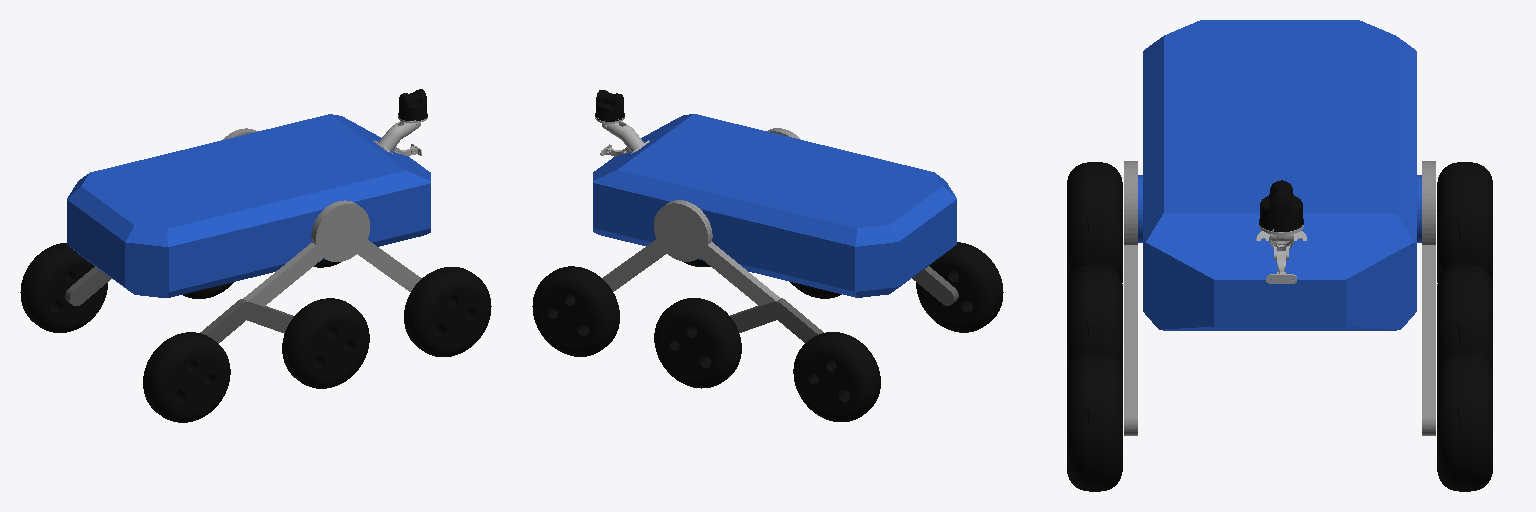
URDF robot description (jaska_robot):
<?xml version="1.0" ?>
<!-- =================================================================================== -->
<!-- |    This document was autogenerated by xacro from urdf/jaska_robot.xacro         | -->
<!-- |    EDITING THIS FILE BY HAND IS NOT RECOMMENDED                                 | -->
<!-- =================================================================================== -->
<robot name="jaska_robot">
  <!-- Base link (main body) -->
  <link name="base_link">
    <visual>
      <origin rpy="1.570795 0 0" xyz="0 0 0"/>
      <geometry>
        <mesh filename="package://jaska_description/meshes/jaska_v1/trunk.stl" scale="0.09 0.09 0.09"/>
      </geometry>
      <material name="jaska_blue">
        <color rgba="0.2 0.4 0.8 1.0"/>
      </material>
    </visual>
    <collision>
      <origin rpy="0 0 0" xyz="0 0 0"/>
      <geometry>
        <!-- Simplified collision geometry for better physics performance -->
        <box size="0.8 0.4 0.17"/>
      </geometry>
    </collision>
    <inertial>
      <mass value="20.0"/>
      <origin rpy="0 0 0" xyz="0 0 0"/>
      <inertia ixx="4.17" ixy="0" ixz="0" iyy="8.33" iyz="0" izz="4.17"/>
    </inertial>
  </link>
  <!-- Left Rocker Link -->
  <link name="left_rocker">
    <visual>
      <origin rpy="1.570795 0 3.14159" xyz="0 0 -0.100"/>
      <geometry>
        <mesh filename="package://jaska_description/meshes/jaska_v1/rocker.stl" scale="0.06 0.06 0.06"/>
      </geometry>
      <material name="jaska_gray">
        <color rgba="0.6 0.6 0.6 1.0"/>
      </material>
    </visual>
    <collision>
      <origin rpy="0 0 0" xyz="0 0 0"/>
      <geometry>
        <!-- Simplified collision geometry for better physics performance -->
        <box size="0.3 0.080 0.060"/>
      </geometry>
    </collision>
    <inertial>
      <mass value="5.0"/>
      <origin rpy="0 0 0" xyz="0 0 0"/>
      <inertia ixx="0.083" ixy="0" ixz="0" iyy="0.267" iyz="0" izz="0.267"/>
    </inertial>
  </link>
  <!-- Right Rocker Link -->
  <link name="right_rocker">
    <visual>
      <origin rpy="1.570795 0 3.14159" xyz="0 0 -0.100"/>
      <geometry>
        <mesh filename="package://jaska_description/meshes/jaska_v1/rocker.stl" scale="0.06 0.06 0.06"/>
      </geometry>
      <material name="jaska_gray">
        <color rgba="0.6 0.6 0.6 1.0"/>
      </material>
    </visual>
    <collision>
      <origin rpy="0 0 0" xyz="0 0 0"/>
      <geometry>
        <!-- Simplified collision geometry for better physics performance -->
        <box size="0.3 0.080 0.060"/>
      </geometry>
    </collision>
    <inertial>
      <mass value="5.0"/>
      <origin rpy="0 0 0" xyz="0 0 0"/>
      <inertia ixx="0.083" ixy="0" ixz="0" iyy="0.267" iyz="0" izz="0.267"/>
    </inertial>
  </link>
  <!-- Left Bogie Link -->
  <link name="left_bogie">
    <visual>
      <origin rpy="1.570795 0 0" xyz="0 0 -0.050"/>
      <geometry>
        <mesh filename="package://jaska_description/meshes/jaska_v1/bogie.stl" scale="0.045 0.045 0.045"/>
      </geometry>
      <material name="jaska_dark_gray">
        <color rgba="0.4 0.4 0.4 1.0"/>
      </material>
    </visual>
    <collision>
      <origin rpy="0 0 0" xyz="0 0 0"/>
      <geometry>
        <!-- Simplified collision geometry for better physics performance -->
        <box size="0.3 0.060 0.040"/>
      </geometry>
    </collision>
    <inertial>
      <mass value="3.0"/>
      <origin rpy="0 0 0" xyz="0 0 0"/>
      <inertia ixx="0.050" ixy="0" ixz="0" iyy="0.063" iyz="0" izz="0.063"/>
    </inertial>
  </link>
  <!-- Right Bogie Link -->
  <link name="right_bogie">
    <visual>
      <origin rpy="1.570795 0 0" xyz="0 0 -0.050"/>
      <geometry>
        <mesh filename="package://jaska_description/meshes/jaska_v1/bogie.stl" scale="0.045 0.045 0.045"/>
      </geometry>
      <material name="jaska_dark_gray">
        <color rgba="0.4 0.4 0.4 1.0"/>
      </material>
    </visual>
    <collision>
      <origin rpy="0 0 0" xyz="0 0 0"/>
      <geometry>
        <!-- Simplified collision geometry for better physics performance -->
        <box size="0.3 0.060 0.040"/>
      </geometry>
    </collision>
    <inertial>
      <mass value="3.0"/>
      <origin rpy="0 0 0" xyz="0 0 0"/>
      <inertia ixx="0.050" ixy="0" ixz="0" iyy="0.063" iyz="0" izz="0.063"/>
    </inertial>
  </link>
  <!-- Rocker Joints (revolute - allows rocker-bogie motion) -->
  <joint name="left_rocker_joint" type="revolute">
    <parent link="base_link"/>
    <child link="left_rocker"/>
    <origin rpy="0 0 0" xyz="0.115 0.245 0.0"/>
    <axis xyz="0 1 0"/>
    <limit effort="100" lower="-0.5" upper="0.5" velocity="1.0"/>
    <dynamics damping="10.0" friction="1.0"/>
  </joint>
  <joint name="right_rocker_joint" type="revolute">
    <parent link="base_link"/>
    <child link="right_rocker"/>
    <origin rpy="0 0 0" xyz="0.115 -0.245 0.0"/>
    <axis xyz="0 1 0"/>
    <limit effort="100" lower="-0.5" upper="0.5" velocity="1.0"/>
    <dynamics damping="10.0" friction="1.0"/>
  </joint>
  <!-- Bogie Joints (revolute - connects to rear of rocker) -->
  <joint name="left_bogie_joint" type="revolute">
    <parent link="left_rocker"/>
    <child link="left_bogie"/>
    <origin rpy="0 0 0" xyz="-0.28 0 -0.155"/>
    <axis xyz="0 1 0"/>
    <limit effort="50" lower="-0.3" upper="0.3" velocity="1.0"/>
    <dynamics damping="5.0" friction="0.5"/>
  </joint>
  <joint name="right_bogie_joint" type="revolute">
    <parent link="right_rocker"/>
    <child link="right_bogie"/>
    <origin rpy="0 0 0" xyz="-0.28 0 -0.155"/>
    <axis xyz="0 1 0"/>
    <limit effort="50" lower="-0.3" upper="0.3" velocity="1.0"/>
    <dynamics damping="5.0" friction="0.5"/>
  </joint>
  <!-- ============================================== -->
  <!-- WHEELS - Rocker-Bogie Configuration          -->
  <!-- ============================================== -->
  <!-- Wheel Link -->
  <link name="front_left_wheel">
    <visual>
      <origin rpy="1.570795 0 0" xyz="0 0 0"/>
      <geometry>
        <mesh filename="package://jaska_description/meshes/jaska_v1/wheel.stl" scale="0.023 0.023 0.023"/>
      </geometry>
      <material name="wheel_black">
        <color rgba="0.1 0.1 0.1 1.0"/>
      </material>
    </visual>
    <collision>
      <origin rpy="1.570795 0 0" xyz="0 0 0"/>
      <geometry>
        <!-- Simplified collision geometry for better physics performance -->
        <cylinder length="0.08" radius="0.11"/>
      </geometry>
    </collision>
    <inertial>
      <mass value="2.5"/>
      <origin rpy="0 0 0" xyz="0 0 0"/>
      <inertia ixx="0.008895833333333334" ixy="0" ixz="0" iyy="0.015125000000000001" iyz="0" izz="0.008895833333333334"/>
    </inertial>
  </link>
  <!-- Wheel Joint (continuous for driving) -->
  <joint name="front_left_wheel_joint" type="continuous">
    <parent link="left_rocker"/>
    <child link="front_left_wheel"/>
    <origin rpy="0 0 0" xyz="0.27 0.06 -0.26"/>
    <axis xyz="0 1 0"/>
    <dynamics damping="0.1" friction="0.1"/>
  </joint>
  <!-- Transmission for ros2_control -->
  <transmission name="front_left_wheel_transmission">
    <type>transmission_interface/SimpleTransmission</type>
    <joint name="front_left_wheel_joint">
      <hardwareInterface>hardware_interface/VelocityJointInterface</hardwareInterface>
    </joint>
    <actuator name="front_left_wheel_motor">
      <hardwareInterface>hardware_interface/VelocityJointInterface</hardwareInterface>
      <mechanicalReduction>1</mechanicalReduction>
    </actuator>
  </transmission>
  <!-- Wheel Link -->
  <link name="front_right_wheel">
    <visual>
      <origin rpy="1.570795 0 0" xyz="0 0 0"/>
      <geometry>
        <mesh filename="package://jaska_description/meshes/jaska_v1/wheel.stl" scale="0.023 0.023 0.023"/>
      </geometry>
      <material name="wheel_black">
        <color rgba="0.1 0.1 0.1 1.0"/>
      </material>
    </visual>
    <collision>
      <origin rpy="1.570795 0 0" xyz="0 0 0"/>
      <geometry>
        <!-- Simplified collision geometry for better physics performance -->
        <cylinder length="0.08" radius="0.11"/>
      </geometry>
    </collision>
    <inertial>
      <mass value="2.5"/>
      <origin rpy="0 0 0" xyz="0 0 0"/>
      <inertia ixx="0.008895833333333334" ixy="0" ixz="0" iyy="0.015125000000000001" iyz="0" izz="0.008895833333333334"/>
    </inertial>
  </link>
  <!-- Wheel Joint (continuous for driving) -->
  <joint name="front_right_wheel_joint" type="continuous">
    <parent link="right_rocker"/>
    <child link="front_right_wheel"/>
    <origin rpy="0 0 0" xyz="0.27 -0.06 -0.26"/>
    <axis xyz="0 1 0"/>
    <dynamics damping="0.1" friction="0.1"/>
  </joint>
  <!-- Transmission for ros2_control -->
  <transmission name="front_right_wheel_transmission">
    <type>transmission_interface/SimpleTransmission</type>
    <joint name="front_right_wheel_joint">
      <hardwareInterface>hardware_interface/VelocityJointInterface</hardwareInterface>
    </joint>
    <actuator name="front_right_wheel_motor">
      <hardwareInterface>hardware_interface/VelocityJointInterface</hardwareInterface>
      <mechanicalReduction>1</mechanicalReduction>
    </actuator>
  </transmission>
  <!-- Wheel Link -->
  <link name="middle_left_wheel">
    <visual>
      <origin rpy="1.570795 0 0" xyz="0 0 0"/>
      <geometry>
        <mesh filename="package://jaska_description/meshes/jaska_v1/wheel.stl" scale="0.023 0.023 0.023"/>
      </geometry>
      <material name="wheel_black">
        <color rgba="0.1 0.1 0.1 1.0"/>
      </material>
    </visual>
    <collision>
      <origin rpy="1.570795 0 0" xyz="0 0 0"/>
      <geometry>
        <!-- Simplified collision geometry for better physics performance -->
        <cylinder length="0.08" radius="0.11"/>
      </geometry>
    </collision>
    <inertial>
      <mass value="2.5"/>
      <origin rpy="0 0 0" xyz="0 0 0"/>
      <inertia ixx="0.008895833333333334" ixy="0" ixz="0" iyy="0.015125000000000001" iyz="0" izz="0.008895833333333334"/>
    </inertial>
  </link>
  <!-- Wheel Joint (continuous for driving) -->
  <joint name="middle_left_wheel_joint" type="continuous">
    <parent link="left_bogie"/>
    <child link="middle_left_wheel"/>
    <origin rpy="0 0 0" xyz="0.2 0.06 -0.11"/>
    <axis xyz="0 1 0"/>
    <dynamics damping="0.1" friction="0.1"/>
  </joint>
  <!-- Transmission for ros2_control -->
  <transmission name="middle_left_wheel_transmission">
    <type>transmission_interface/SimpleTransmission</type>
    <joint name="middle_left_wheel_joint">
      <hardwareInterface>hardware_interface/VelocityJointInterface</hardwareInterface>
    </joint>
    <actuator name="middle_left_wheel_motor">
      <hardwareInterface>hardware_interface/VelocityJointInterface</hardwareInterface>
      <mechanicalReduction>1</mechanicalReduction>
    </actuator>
  </transmission>
  <!-- Wheel Link -->
  <link name="middle_right_wheel">
    <visual>
      <origin rpy="1.570795 0 0" xyz="0 0 0"/>
      <geometry>
        <mesh filename="package://jaska_description/meshes/jaska_v1/wheel.stl" scale="0.023 0.023 0.023"/>
      </geometry>
      <material name="wheel_black">
        <color rgba="0.1 0.1 0.1 1.0"/>
      </material>
    </visual>
    <collision>
      <origin rpy="1.570795 0 0" xyz="0 0 0"/>
      <geometry>
        <!-- Simplified collision geometry for better physics performance -->
        <cylinder length="0.08" radius="0.11"/>
      </geometry>
    </collision>
    <inertial>
      <mass value="2.5"/>
      <origin rpy="0 0 0" xyz="0 0 0"/>
      <inertia ixx="0.008895833333333334" ixy="0" ixz="0" iyy="0.015125000000000001" iyz="0" izz="0.008895833333333334"/>
    </inertial>
  </link>
  <!-- Wheel Joint (continuous for driving) -->
  <joint name="middle_right_wheel_joint" type="continuous">
    <parent link="right_bogie"/>
    <child link="middle_right_wheel"/>
    <origin rpy="0 0 0" xyz="0.2 -0.06 -0.11"/>
    <axis xyz="0 1 0"/>
    <dynamics damping="0.1" friction="0.1"/>
  </joint>
  <!-- Transmission for ros2_control -->
  <transmission name="middle_right_wheel_transmission">
    <type>transmission_interface/SimpleTransmission</type>
    <joint name="middle_right_wheel_joint">
      <hardwareInterface>hardware_interface/VelocityJointInterface</hardwareInterface>
    </joint>
    <actuator name="middle_right_wheel_motor">
      <hardwareInterface>hardware_interface/VelocityJointInterface</hardwareInterface>
      <mechanicalReduction>1</mechanicalReduction>
    </actuator>
  </transmission>
  <!-- Wheel Link -->
  <link name="rear_left_wheel">
    <visual>
      <origin rpy="1.570795 0 0" xyz="0 0 0"/>
      <geometry>
        <mesh filename="package://jaska_description/meshes/jaska_v1/wheel.stl" scale="0.023 0.023 0.023"/>
      </geometry>
      <material name="wheel_black">
        <color rgba="0.1 0.1 0.1 1.0"/>
      </material>
    </visual>
    <collision>
      <origin rpy="1.570795 0 0" xyz="0 0 0"/>
      <geometry>
        <!-- Simplified collision geometry for better physics performance -->
        <cylinder length="0.08" radius="0.11"/>
      </geometry>
    </collision>
    <inertial>
      <mass value="2.5"/>
      <origin rpy="0 0 0" xyz="0 0 0"/>
      <inertia ixx="0.008895833333333334" ixy="0" ixz="0" iyy="0.015125000000000001" iyz="0" izz="0.008895833333333334"/>
    </inertial>
  </link>
  <!-- Wheel Joint (continuous for driving) -->
  <joint name="rear_left_wheel_joint" type="continuous">
    <parent link="left_bogie"/>
    <child link="rear_left_wheel"/>
    <origin rpy="0 0 0" xyz="-0.2 0.06 -0.11"/>
    <axis xyz="0 1 0"/>
    <dynamics damping="0.1" friction="0.1"/>
  </joint>
  <!-- Transmission for ros2_control -->
  <transmission name="rear_left_wheel_transmission">
    <type>transmission_interface/SimpleTransmission</type>
    <joint name="rear_left_wheel_joint">
      <hardwareInterface>hardware_interface/VelocityJointInterface</hardwareInterface>
    </joint>
    <actuator name="rear_left_wheel_motor">
      <hardwareInterface>hardware_interface/VelocityJointInterface</hardwareInterface>
      <mechanicalReduction>1</mechanicalReduction>
    </actuator>
  </transmission>
  <!-- Wheel Link -->
  <link name="rear_right_wheel">
    <visual>
      <origin rpy="1.570795 0 0" xyz="0 0 0"/>
      <geometry>
        <mesh filename="package://jaska_description/meshes/jaska_v1/wheel.stl" scale="0.023 0.023 0.023"/>
      </geometry>
      <material name="wheel_black">
        <color rgba="0.1 0.1 0.1 1.0"/>
      </material>
    </visual>
    <collision>
      <origin rpy="1.570795 0 0" xyz="0 0 0"/>
      <geometry>
        <!-- Simplified collision geometry for better physics performance -->
        <cylinder length="0.08" radius="0.11"/>
      </geometry>
    </collision>
    <inertial>
      <mass value="2.5"/>
      <origin rpy="0 0 0" xyz="0 0 0"/>
      <inertia ixx="0.008895833333333334" ixy="0" ixz="0" iyy="0.015125000000000001" iyz="0" izz="0.008895833333333334"/>
    </inertial>
  </link>
  <!-- Wheel Joint (continuous for driving) -->
  <joint name="rear_right_wheel_joint" type="continuous">
    <parent link="right_bogie"/>
    <child link="rear_right_wheel"/>
    <origin rpy="0 0 0" xyz="-0.2 -0.06 -0.11"/>
    <axis xyz="0 1 0"/>
    <dynamics damping="0.1" friction="0.1"/>
  </joint>
  <!-- Transmission for ros2_control -->
  <transmission name="rear_right_wheel_transmission">
    <type>transmission_interface/SimpleTransmission</type>
    <joint name="rear_right_wheel_joint">
      <hardwareInterface>hardware_interface/VelocityJointInterface</hardwareInterface>
    </joint>
    <actuator name="rear_right_wheel_motor">
      <hardwareInterface>hardware_interface/VelocityJointInterface</hardwareInterface>
      <mechanicalReduction>1</mechanicalReduction>
    </actuator>
  </transmission>
  <!-- Differential drive constraint: synchronize left and right wheels -->
  <!-- This will be handled by the robot controller, not URDF -->
  <!-- ============================================== -->
  <!-- SENSOR MOUNT ASSEMBLY - 45 Degree Front Mount -->
  <!-- ============================================== -->
  <!-- Sensor Mount Base (using actual STL mesh) -->
  <link name="sensor_mount_base">
    <visual>
      <origin rpy="0 0 0" xyz="0 0 0"/>
      <geometry>
        <mesh filename="package://jaska_description/meshes/jaska_v1/lidar_and_camera_mount.stl" scale="0.001 0.001 0.001"/>
      </geometry>
      <material name="mount_aluminum">
        <color rgba="0.7 0.7 0.7 1.0"/>
      </material>
    </visual>
    <collision>
      <origin rpy="0 0 0" xyz="0 0 0"/>
      <geometry>
        <mesh filename="package://jaska_description/meshes/jaska_v1/lidar_and_camera_mount.stl" scale="0.001 0.001 0.001"/>
      </geometry>
    </collision>
    <inertial>
      <mass value="0.5"/>
      <origin rpy="0 0 0" xyz="0 0 0"/>
      <inertia ixx="0.007" ixy="0" ixz="0" iyy="0.002" iyz="0" izz="0.007"/>
    </inertial>
  </link>
  <!-- Sensor Mount Base Joint (fixed, 45-degree angle at front) -->
  <joint name="sensor_mount_base_joint" type="fixed">
    <parent link="base_link"/>
    <child link="sensor_mount_base"/>
    <!-- Position at front of robot, angled 45 degrees -->
    <origin rpy="0 0.7853975 0" xyz="0.36000000000000004 -0.04 0.07500000000000001"/>
  </joint>
  <!-- ============================================== -->
  <!-- UNITREE L2 LIDAR                              -->
  <!-- ============================================== -->
  <!-- Unitree L2 Lidar Link (actual sensor) -->
  <link name="unitree_lidar_link">
    <visual>
      <origin rpy="0 0 0" xyz="-0.037 -0.037 -0.025"/>
      <geometry>
        <!-- Use actual Unitree L2 mesh from local meshes directory -->
        <mesh filename="package://jaska_description/meshes/jaska_v1/unitree_l2.stl" scale="0.001 0.001 0.001"/>
      </geometry>
      <material name="lidar_sensor">
        <color rgba="0.1 0.1 0.1 1.0"/>
      </material>
    </visual>
    <collision>
      <origin rpy="0 0 0" xyz="0 0 0"/>
      <geometry>
        <!-- Simplified collision geometry: approx 90mm diameter, 60mm height -->
        <cylinder length="0.060" radius="0.038"/>
      </geometry>
    </collision>
    <inertial>
      <mass value="0.18"/>
      <!-- Unitree L2 is approximately 180g -->
      <origin rpy="0 0 0" xyz="0 0 0"/>
      <inertia ixx="0.0001" ixy="0" ixz="0" iyy="0.0001" iyz="0" izz="0.0001"/>
    </inertial>
  </link>
  <!-- Unitree L2 Lidar Joint (mounted on top mounting point of sensor mount) -->
  <joint name="unitree_lidar_joint" type="fixed">
    <parent link="sensor_mount_base"/>
    <child link="unitree_lidar_link"/>
    <!-- Adjust these coordinates based on actual mounting point position on your STL -->
    <origin rpy="0 -0.7853975 0" xyz="0.010 0.042 0.135"/>
  </joint>
  <!-- Unitree L2 Lidar Optical Frame (matches real hardware frame name) -->
  <link name="unilidar_lidar"/>
  <joint name="unitree_lidar_optical_joint" type="fixed">
    <parent link="unitree_lidar_link"/>
    <child link="unilidar_lidar"/>
    <!-- Lidar optical frame at sensor center -->
    <origin rpy="0 0 0" xyz="0 0 0.030"/>
  </joint>
  <!-- Gazebo 3D Lidar Sensor Plugin for Unitree L2 -->
  <gazebo reference="unitree_lidar_link">
    <material>Gazebo/Black</material>
    <sensor name="unitree_l2_lidar" type="gpu_lidar">
      <pose>0 0 0.030 0 0 0</pose>
      <always_on>true</always_on>
      <visualize>true</visualize>
      <update_rate>10</update_rate>
      <topic>unilidar/cloud</topic>
      <gz_frame_id>unilidar_lidar</gz_frame_id>
      <lidar>
        <scan>
          <horizontal>
            <samples>1800</samples>
            <min_angle>-3.14159</min_angle>
            <max_angle>3.14159</max_angle>
            <resolution>1.0</resolution>
          </horizontal>
          <vertical>
            <samples>32</samples>
            <min_angle>-0.1047</min_angle>
            <!-- -6 degrees (downward) -->
            <max_angle>1.5708</max_angle>
            <!-- +90 degrees (upward dome) -->
            <resolution>1.0</resolution>
          </vertical>
        </scan>
        <range>
          <min>0.1</min>
          <max>30.0</max>
          <!-- Unitree L2 max range -->
          <resolution>0.01</resolution>
        </range>
        <noise>
          <type>gaussian</type>
          <mean>0.0</mean>
          <stddev>0.01</stddev>
        </noise>
      </lidar>
    </sensor>
  </gazebo>
  <!-- ============================================== -->
  <!-- ZED X CAMERA - Simplified from ZED ROS2 Wrapper -->
  <!-- ============================================== -->
  <!-- Optical center offset -->
  <!-- Camera mounting point -->
  <link name="zed_camera_link"/>
  <!-- Camera Center -->
  <link name="zed_camera_center">
    <visual>
      <origin rpy="0 0 0" xyz="0 0 0"/>
      <geometry>
        <mesh filename="package://jaska_description/meshes/jaska_v1/zedx.stl" scale="1 1 1"/>
      </geometry>
      <material name="zedx_mat">
        <color rgba="0.1 0.1 0.1 1.0"/>
      </material>
    </visual>
    <collision>
      <origin rpy="0 0 0" xyz="0 0 0"/>
      <geometry>
        <mesh filename="package://jaska_description/meshes/jaska_v1/zedx.stl" scale="1 1 1"/>
      </geometry>
    </collision>
    <inertial>
      <mass value="0.15"/>
      <!-- ZED X is approximately 150g -->
      <origin rpy="0 0 0" xyz="0 0 0"/>
      <inertia ixx="0.0001" ixy="0" ixz="0" iyy="0.0003" iyz="0" izz="0.0003"/>
    </inertial>
  </link>
  <joint name="zed_camera_center_joint" type="fixed">
    <parent link="zed_camera_link"/>
    <child link="zed_camera_center"/>
    <origin rpy="0 0 0" xyz="0 0 0"/>
  </joint>
  <!-- Mount camera link to sensor mount -->
  <joint name="zed_camera_mount_joint" type="fixed">
    <parent link="sensor_mount_base"/>
    <child link="zed_camera_link"/>
    <!-- Adjust these coordinates based on actual mounting point position on your STL -->
    <origin rpy="0 -0.7853975 0" xyz="0.130 0.042 0.060"/>
  </joint>
  <!-- Left Camera -->
  <link name="zed_left_camera_frame"/>
  <joint name="zed_left_camera_joint" type="fixed">
    <parent link="zed_camera_center"/>
    <child link="zed_left_camera_frame"/>
    <origin rpy="0 0 0" xyz="-0.01 0.06 0"/>
  </joint>
  <link name="zed_left_camera_optical_frame"/>
  <joint name="zed_left_camera_optical_joint" type="fixed">
    <origin rpy="-1.570795 0.0 -1.570795" xyz="0 0 0"/>
    <parent link="zed_left_camera_frame"/>
    <child link="zed_left_camera_optical_frame"/>
  </joint>
  <!-- Right Camera -->
  <link name="zed_right_camera_frame"/>
  <joint name="zed_right_camera_joint" type="fixed">
    <parent link="zed_camera_center"/>
    <child link="zed_right_camera_frame"/>
    <origin rpy="0 0 0" xyz="-0.01 -0.06 0"/>
  </joint>
  <link name="zed_right_camera_optical_frame"/>
  <joint name="zed_right_camera_optical_joint" type="fixed">
    <origin rpy="-1.570795 0.0 -1.570795" xyz="0 0 0"/>
    <parent link="zed_right_camera_frame"/>
    <child link="zed_right_camera_optical_frame"/>
  </joint>
</robot>

--- Facts derived from the render (not from the file) ---
The picture shows the robot from 3 angles, left to right: view 1: azimuth 30°, elevation 25°; view 2: azimuth 150°, elevation 25°; view 3: azimuth 270°, elevation 25°; orthographic projection.
Robot: jaska_robot — 20 links, 19 joints (4 revolute, 6 continuous, 9 fixed); root link base_link; default pose: all joints at 0.
Links seen in each view (by area): view 1: base_link, rear_right_wheel, middle_right_wheel, front_right_wheel, right_rocker, rear_left_wheel, right_bogie, left_bogie, sensor_mount_base, unitree_lidar_link; view 2: base_link, middle_left_wheel, front_left_wheel, rear_left_wheel, left_rocker, rear_right_wheel, left_bogie, right_bogie, sensor_mount_base, unitree_lidar_link; view 3: base_link, front_left_wheel, front_right_wheel, rear_left_wheel, rear_right_wheel, middle_left_wheel, middle_right_wheel, left_rocker, right_rocker, unitree_lidar_link, sensor_mount_base.
Link boxes in pixels (x1,y1,x2,y2): base_link: (67, 114, 430, 297); rear_right_wheel: (143, 332, 230, 422); middle_right_wheel: (282, 298, 369, 388); front_right_wheel: (404, 267, 491, 356); right_rocker: (243, 200, 421, 306); rear_left_wheel: (20, 243, 107, 332); right_bogie: (200, 299, 293, 343); left_bogie: (65, 266, 111, 305); sensor_mount_base: (373, 113, 427, 155); unitree_lidar_link: (398, 89, 427, 120); base_link: (593, 114, 956, 297); middle_left_wheel: (654, 298, 741, 388); front_left_wheel: (532, 266, 619, 356); rear_left_wheel: (793, 332, 880, 421); left_rocker: (602, 200, 780, 305); rear_right_wheel: (916, 242, 1003, 332); left_bogie: (730, 298, 823, 342); right_bogie: (912, 266, 958, 305); sensor_mount_base: (595, 117, 649, 156); unitree_lidar_link: (595, 90, 624, 121); base_link: (1138, 20, 1421, 330); front_left_wheel: (1437, 352, 1492, 491); front_right_wheel: (1067, 352, 1122, 491); rear_left_wheel: (1437, 162, 1492, 282); rear_right_wheel: (1067, 162, 1122, 282); middle_left_wheel: (1437, 265, 1492, 370); middle_right_wheel: (1067, 265, 1122, 370); left_rocker: (1422, 161, 1435, 435); right_rocker: (1124, 161, 1137, 435); unitree_lidar_link: (1259, 180, 1303, 231); sensor_mount_base: (1256, 225, 1306, 283).
Bounding box of the posed robot: 0.9807 × 0.702 × 0.582 m (x, y, z).
Meshes: 7 distinct files referenced, 13 mesh visuals loaded (6 binary STL); not drawn: 1 (reference not matched to a file when rendering).
